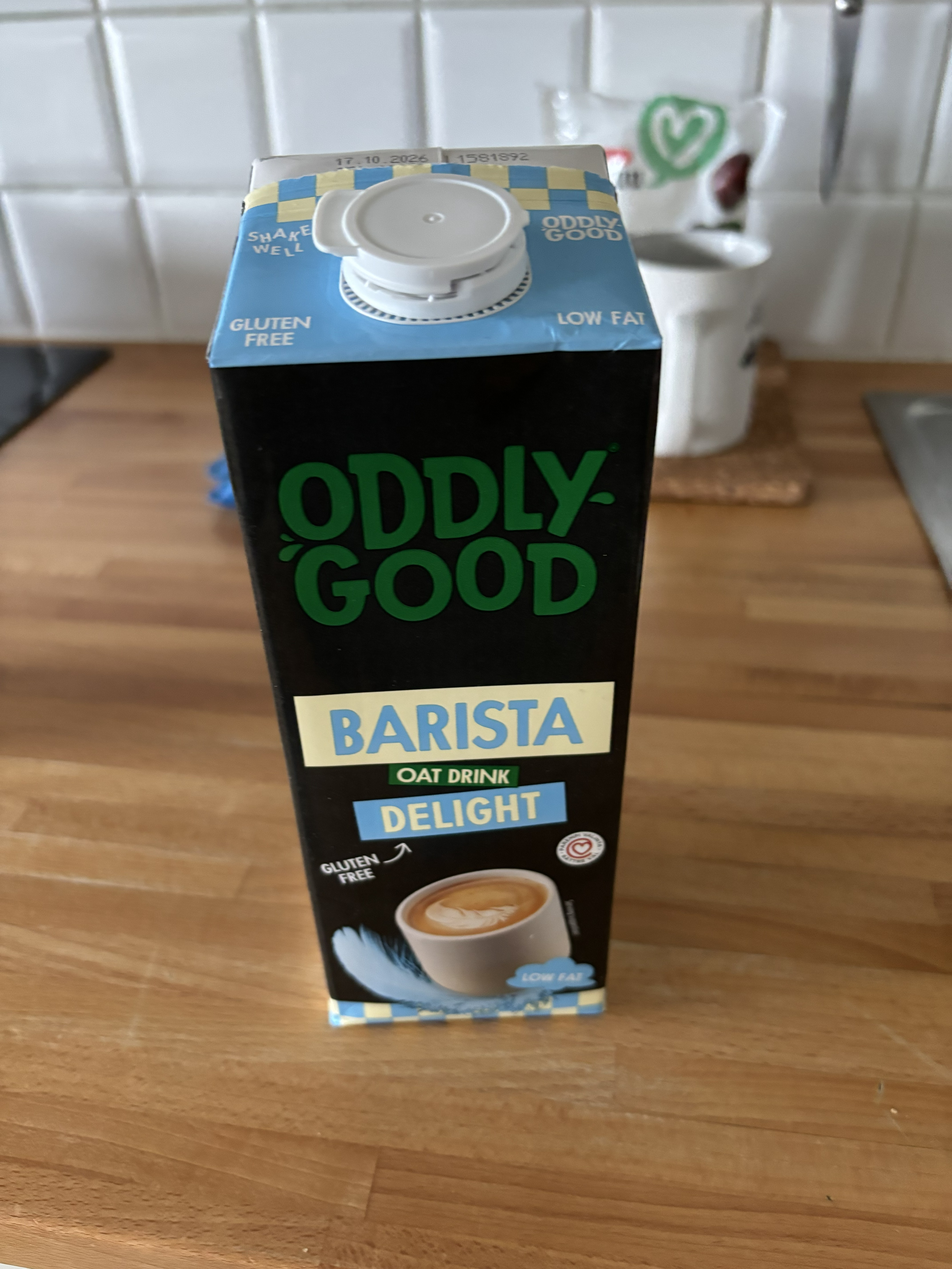Dryckeskartong: (197, 153, 658, 1040)
